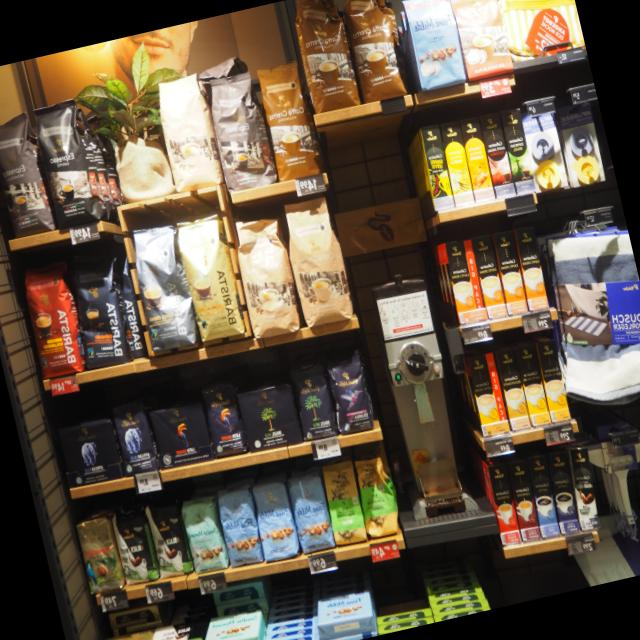AB Bohne: (108, 396, 163, 476)
AB Gemahlen: (53, 412, 125, 490)
Athiopien Bohne: (349, 452, 407, 540)
Athiopien Gemahlen: (316, 454, 374, 548)
BM Bohne: (285, 352, 343, 443)
BM Gemahlen: (237, 378, 305, 454)
BW Bohne: (142, 494, 196, 580), (109, 503, 162, 588)
BW Gemahlen: (151, 616, 210, 640)
Barista CB: (170, 210, 250, 350)
Barista CC: (123, 217, 203, 355)
Barista Espresso: (60, 248, 139, 373)
Barista Kolumbien: (15, 256, 94, 384)
C Fino Bohne: (320, 346, 381, 436)
CC Mild: (276, 192, 360, 335), (225, 210, 308, 341), (148, 70, 228, 197)
CC Vollmundig: (444, 0, 515, 84)
CC Vollmundig 36 Pads: (251, 58, 328, 185), (285, 0, 366, 118), (334, 0, 416, 106)
Colombia BB Bohne: (70, 506, 128, 597)
Colombia BB Gemahlen: (103, 627, 155, 640)
Empty Shelf: (259, 599, 318, 637), (371, 578, 431, 614), (426, 569, 484, 604)
Espresso Aromatisch: (200, 67, 280, 196)
FM 36 Pads: (396, 0, 470, 95)
FM Bohne: (247, 475, 306, 564), (282, 464, 339, 555), (211, 481, 268, 571)
LG Bohne: (195, 375, 252, 459)
LG Gemahlen: (147, 397, 215, 470)
SM Bohne: (177, 493, 233, 576)
SM Gemahlen: (317, 587, 374, 626), (204, 608, 262, 640)
Simo CC Colombia: (479, 111, 517, 199)
Simo CCMild: (466, 350, 510, 437)
Simo CCMild bigpack: (514, 342, 552, 427), (535, 337, 572, 422)
Simo CCVollmundig: (443, 237, 485, 325)
Simo CCVollmundig bigpack: (470, 232, 508, 319), (491, 228, 528, 317), (513, 224, 549, 311)
Simo Decaff: (495, 346, 531, 430)
Simo Es Brazil: (499, 107, 537, 194)
Simo Es Caramel: (458, 115, 496, 203)
Simo Es Elegant: (487, 461, 521, 545)
Simo Es Kraft: (507, 457, 541, 541)
Simo Es Vanilla: (440, 125, 476, 213)
Simo Kaffee BW: (568, 446, 600, 529)
Simo Kaffee Kraft: (545, 448, 581, 535)
Simo Kaffee Mild: (525, 453, 560, 538)
Simo Sunrise: (419, 122, 455, 213)
